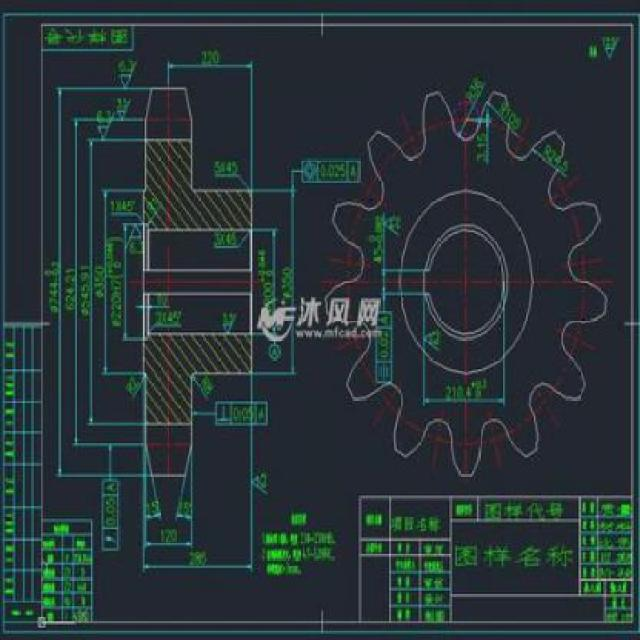Gear: (323, 86, 610, 479)
